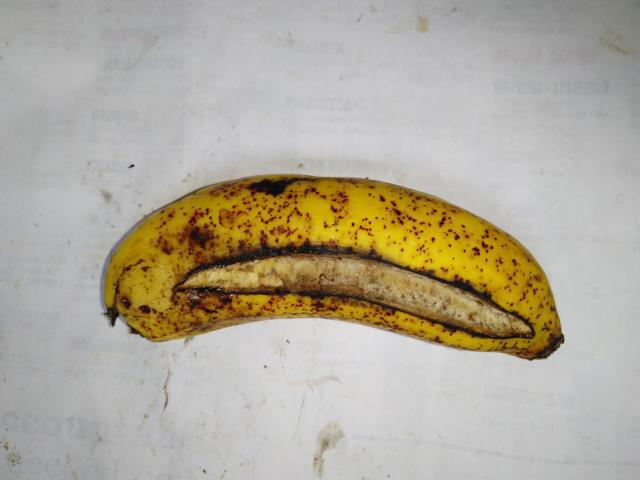ripe: (116, 165, 558, 402)
rotten: (153, 228, 541, 369)
